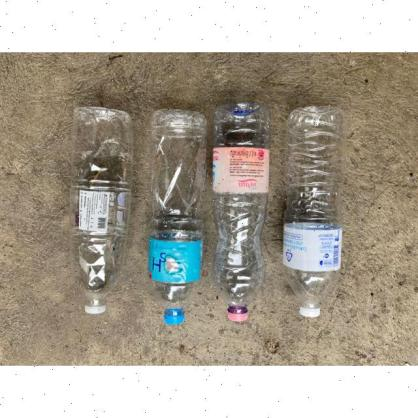bottle: (69, 105, 135, 315), (282, 104, 346, 318), (147, 118, 210, 333), (212, 101, 270, 322)
cap: (227, 308, 250, 322), (298, 304, 320, 318), (84, 302, 106, 315), (164, 311, 185, 324)
label: (71, 186, 131, 235), (282, 225, 344, 272), (214, 146, 270, 194), (150, 238, 204, 280)
